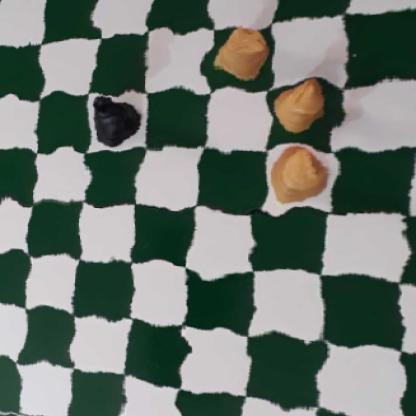black-king: (88, 91, 142, 150)
white-bishop: (273, 82, 328, 138)
white-king: (266, 152, 326, 206)
white-rook: (215, 24, 270, 79)
